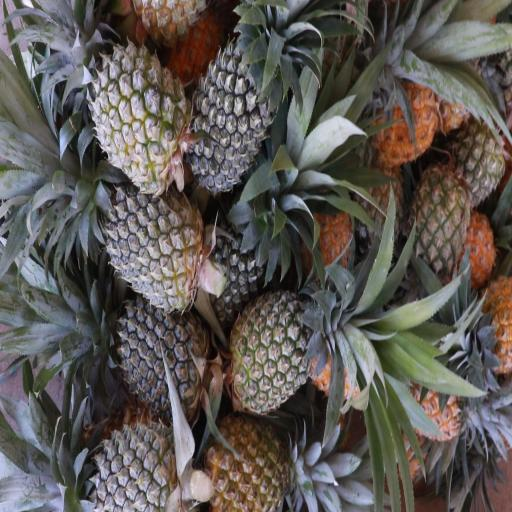------------------------------: (100, 38, 189, 190), (230, 291, 328, 411), (203, 416, 294, 512), (407, 174, 472, 278)
Pineapple - v8 v1: (378, 79, 443, 163), (473, 276, 512, 372)
